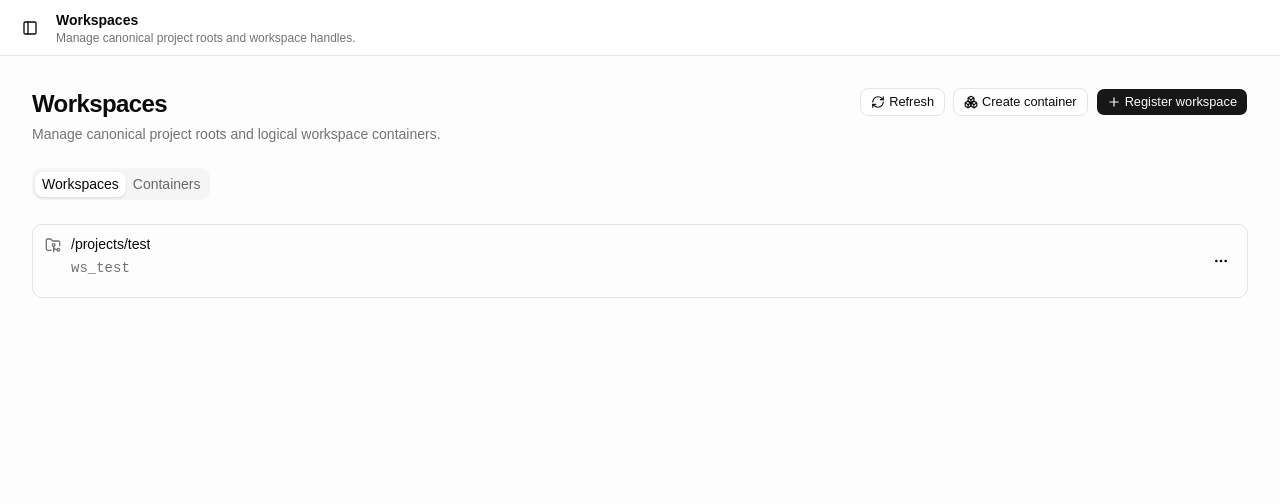
Test: admin app runtime smoke › navigates from the workspace list to the workspace-id child route
The width and height of the screenshot is (1280, 504).
Click the text "/projects/test": (111, 245) x1=71 y1=235 x2=150 y2=254
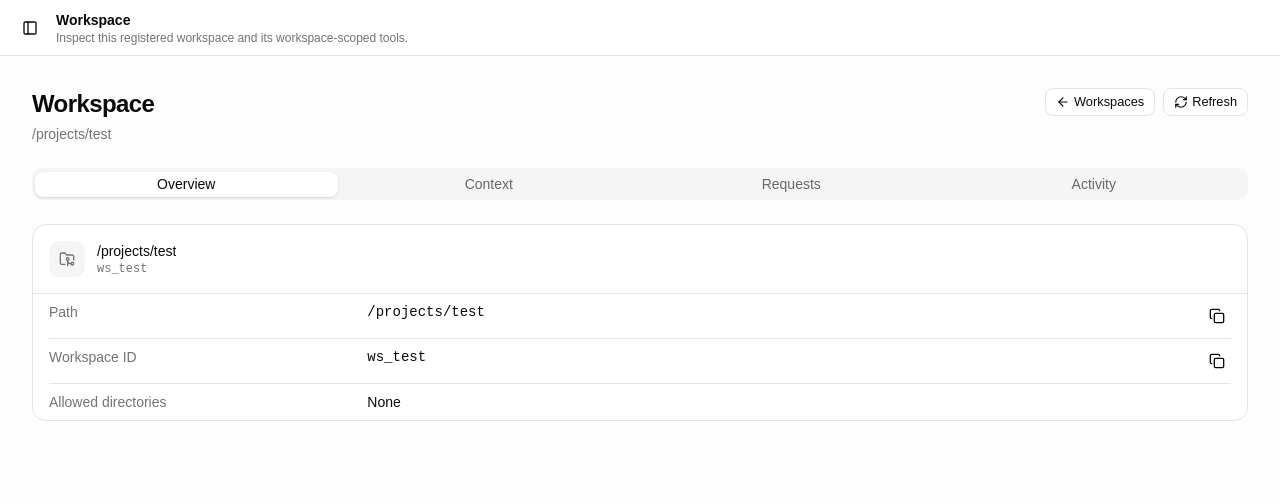
Expected: the 1st text "ws_test" is shown, x1=97 y1=262 x2=147 y2=276
Click the tab "Context": (489, 184) x1=465 y1=176 x2=513 y2=192
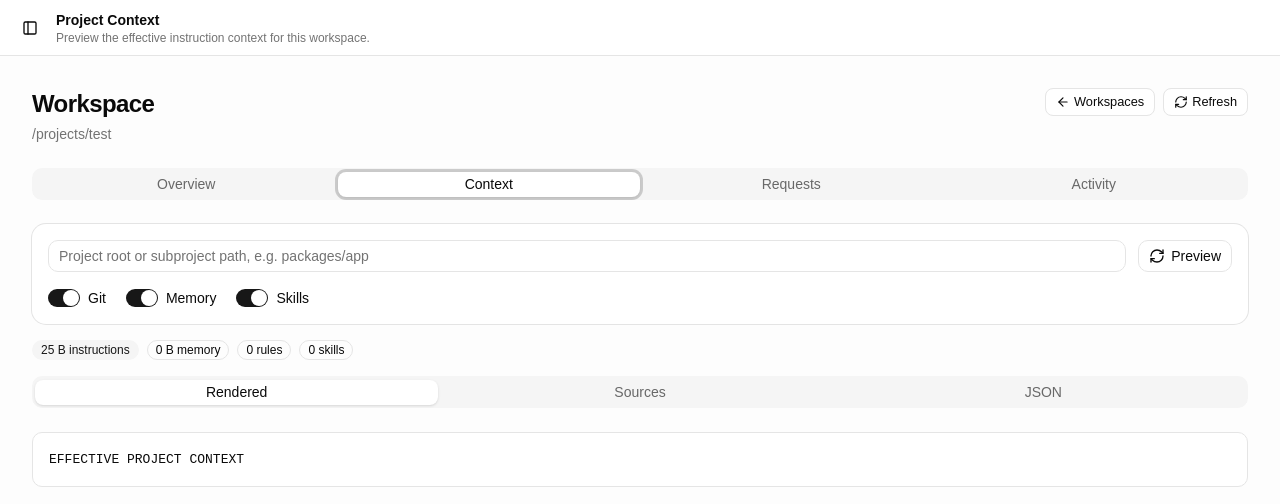
Expected: the text "EFFECTIVE PROJECT CONTEXT" is shown, x1=49 y1=452 x2=244 y2=467
